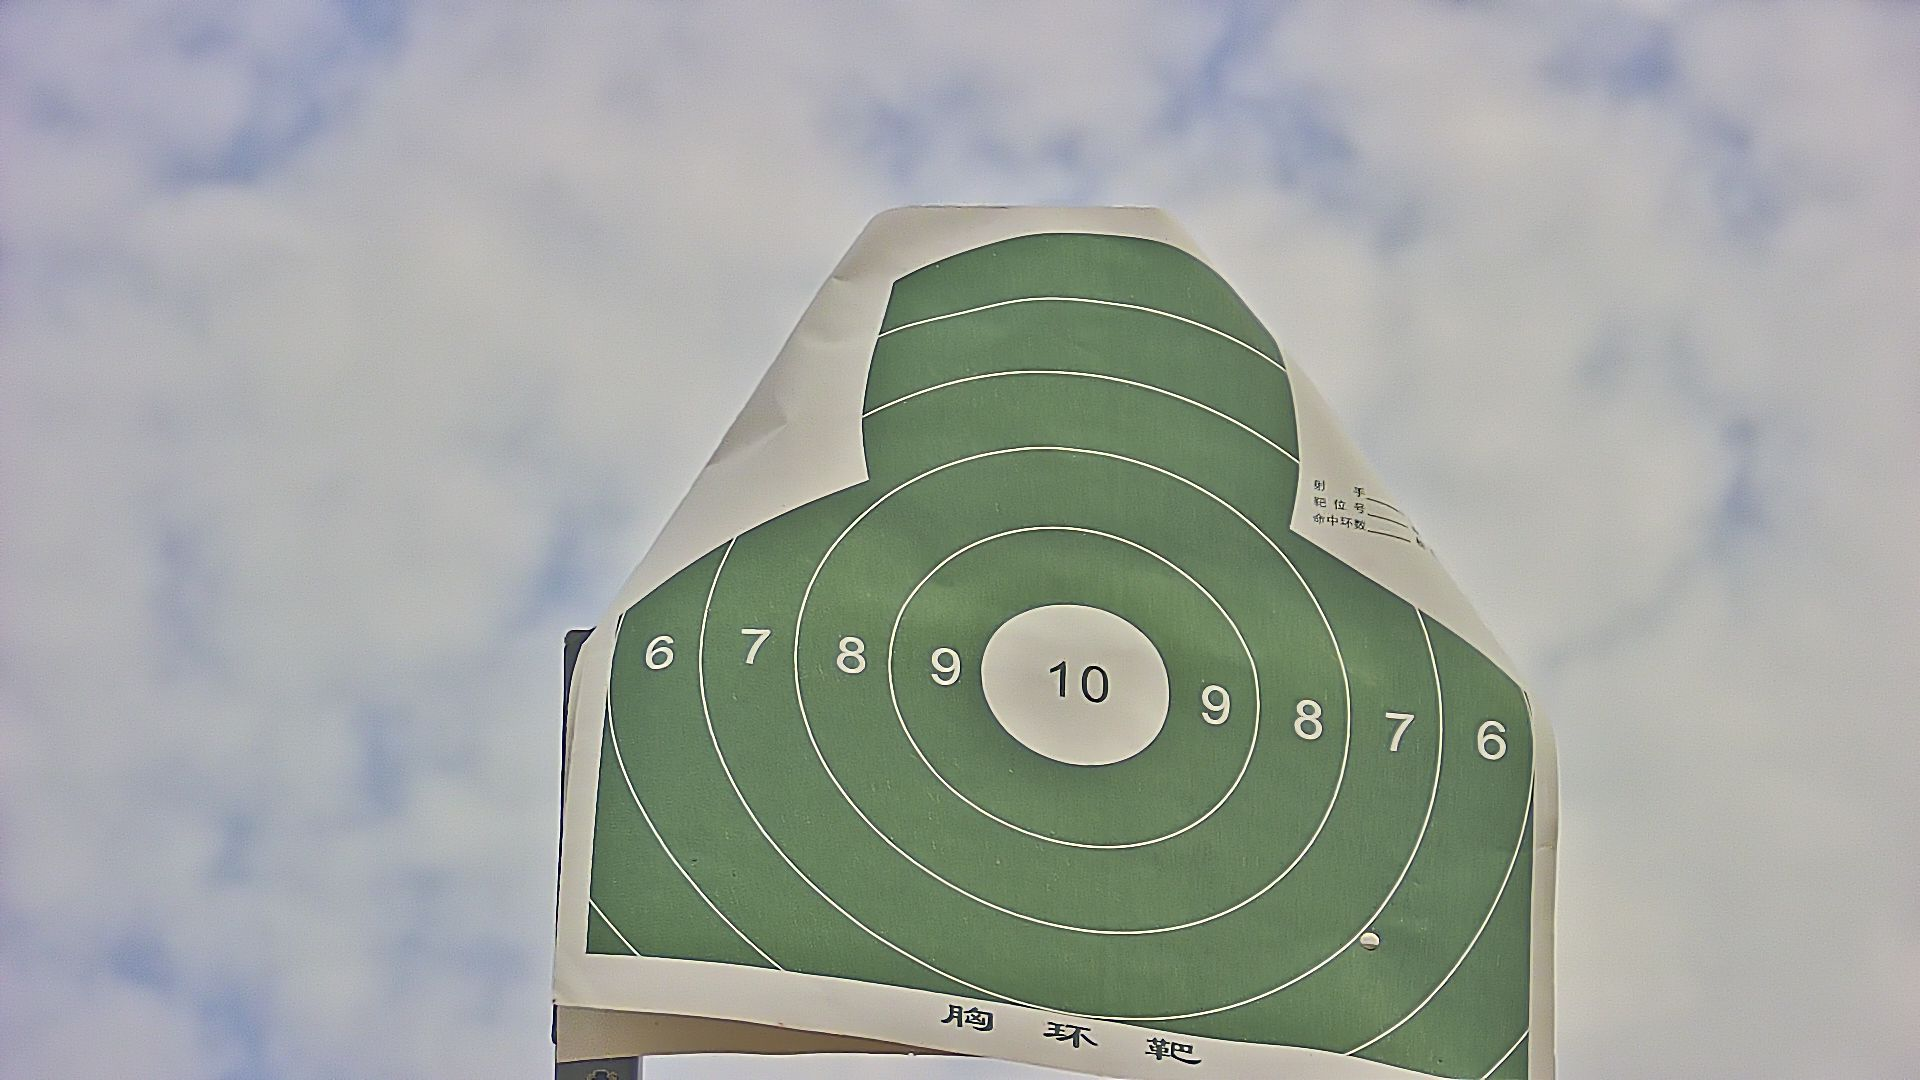kernel: (1072, 679, 1073, 684)
target: (585, 233, 1538, 1080)
ten: (978, 600, 1172, 769)
